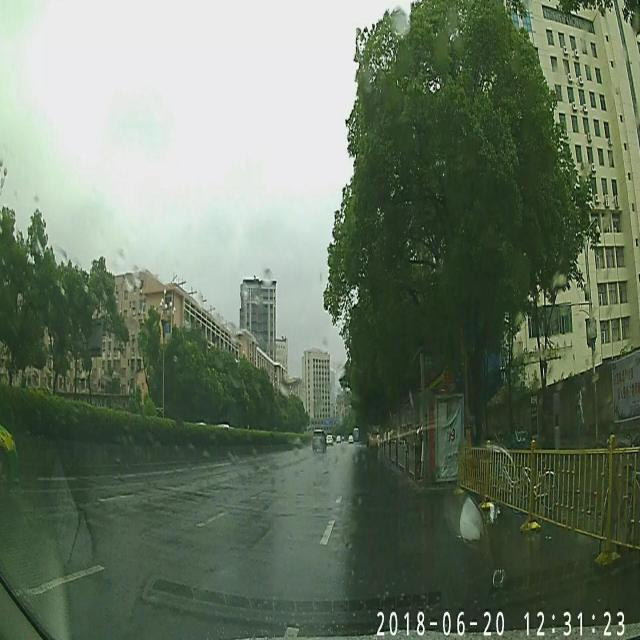car: (310, 429, 326, 454), (350, 435, 352, 443)
